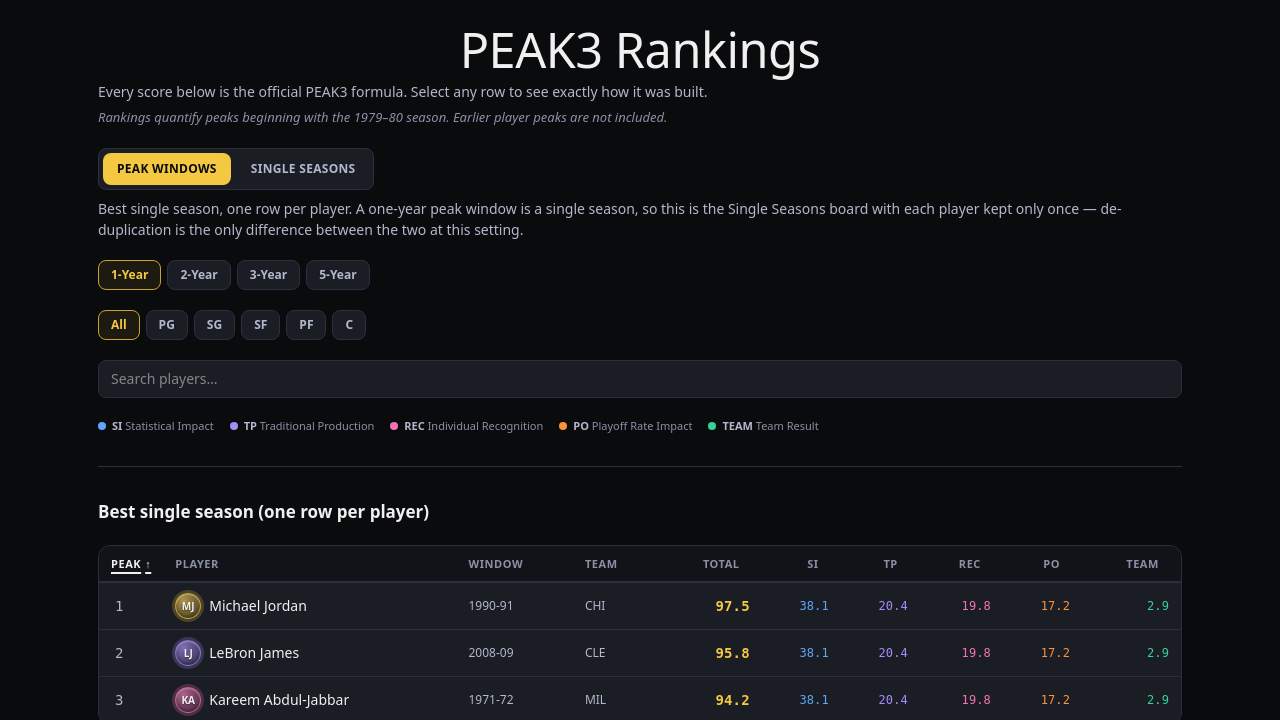
Test: opening the analysis › carries the whole analysis, not only a chart
Click the row with test id "rankings-row" that starts with "Michael Jordan": (640, 607) x1=99 y1=583 x2=1181 y2=630
(page scrolled)
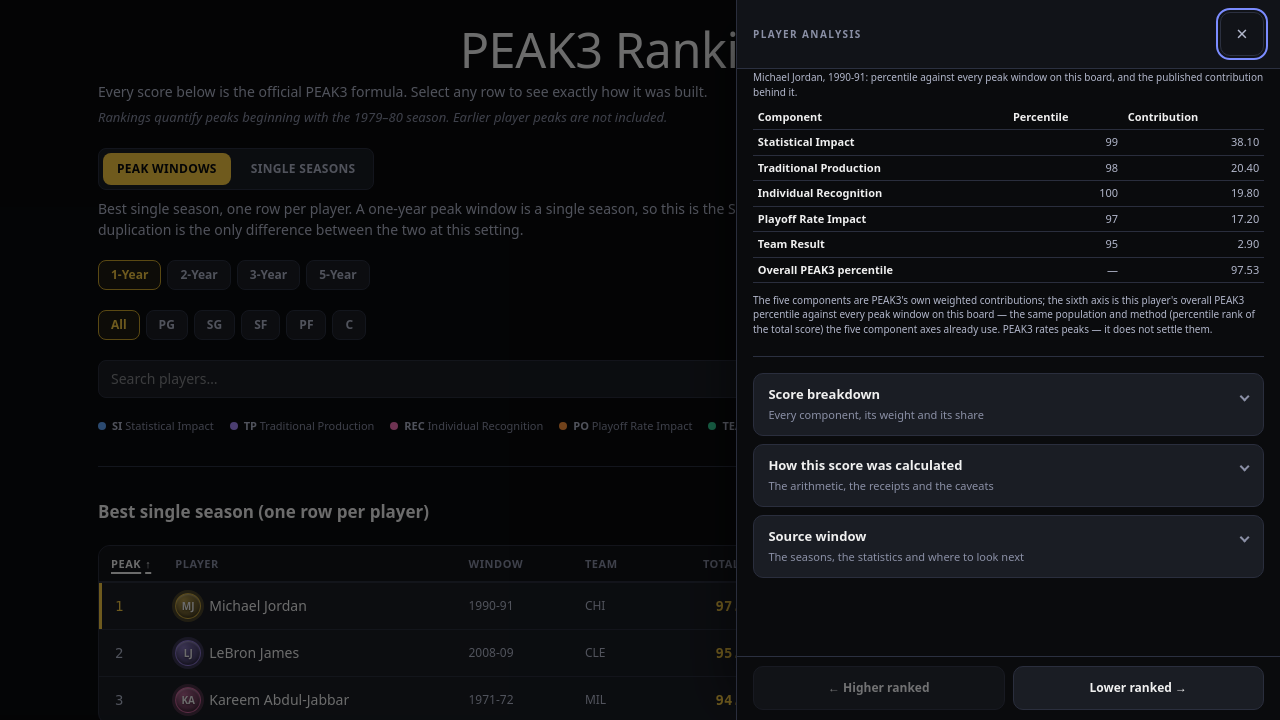
Expected: the row with test id "rk-detail-row-total" is shown, x1=753 y1=257 x2=1264 y2=283
Expected: the element with test id "rk-fold-breakdown" is shown, x1=753 y1=373 x2=1264 y2=436
Expected: the element with test id "rk-fold-calculation" is shown, x1=753 y1=444 x2=1264 y2=507
